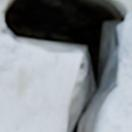broken_brick: (0, 32, 77, 131), (101, 11, 131, 131)
crack: (2, 0, 129, 131)
